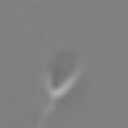normal: (27, 97, 57, 128)
